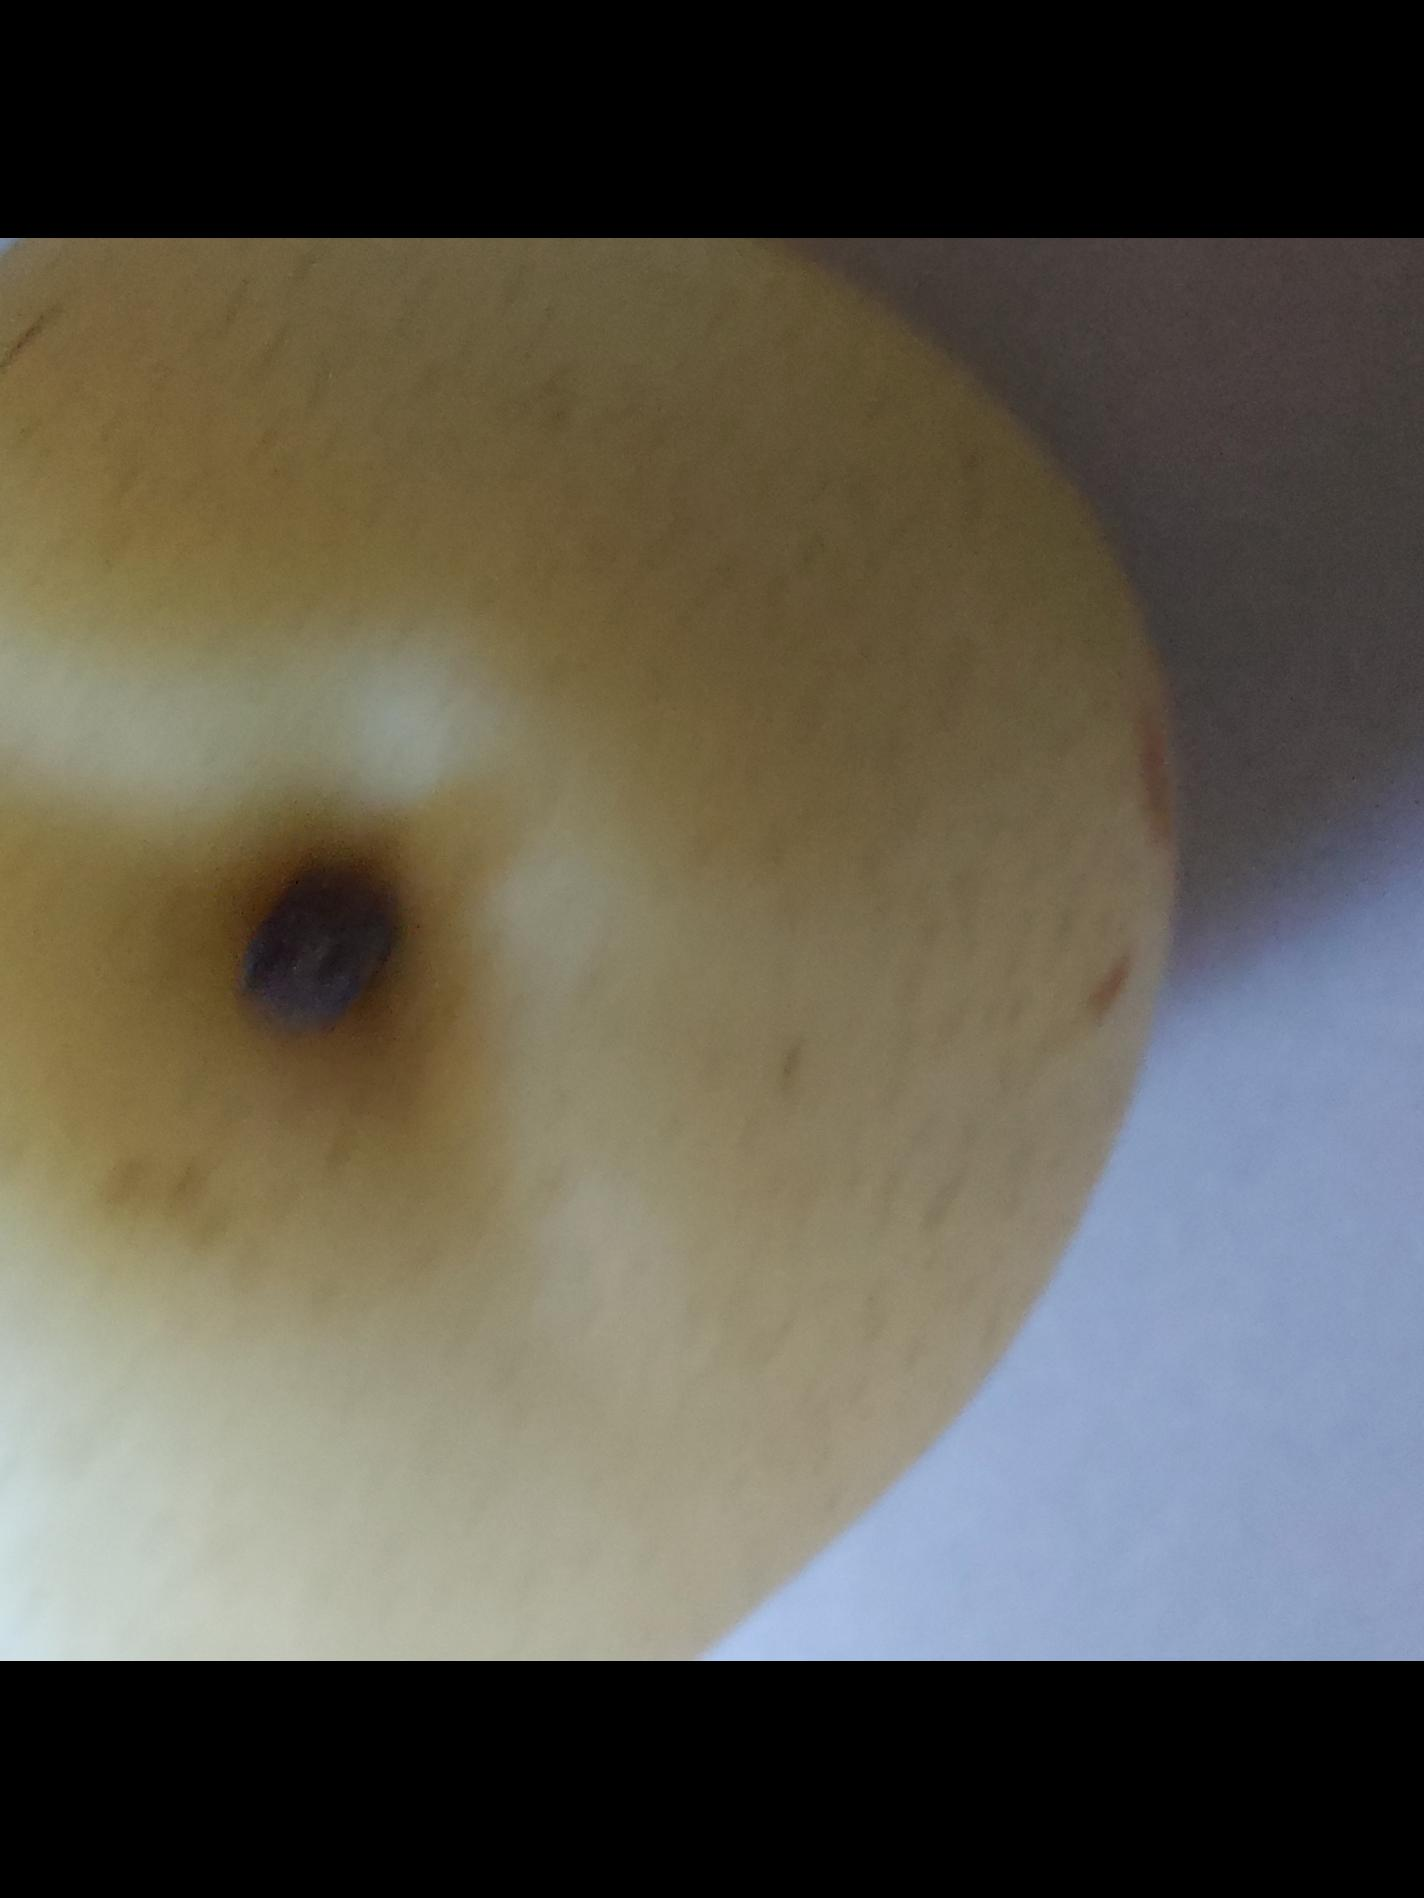Good Pear: (0, 236, 1292, 1662)
